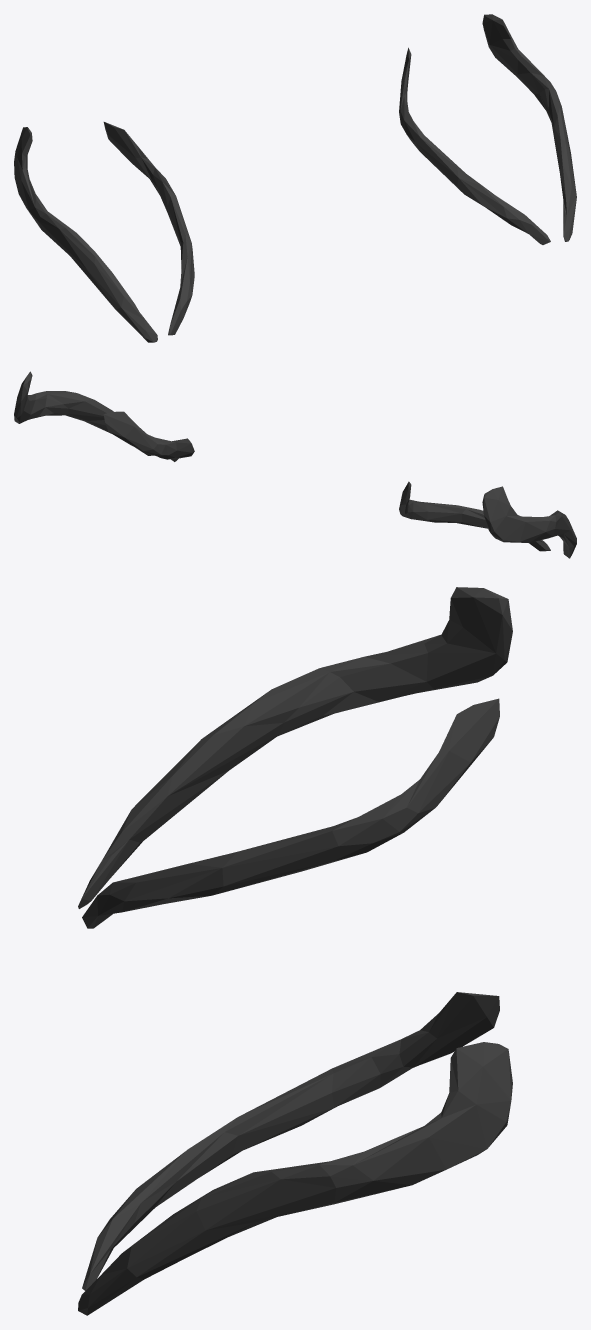
File: tend_extensor_br_FL.glb
The picture shows the model from 3 angles, top to bottom: view 1: azimuth 30°, elevation 25°; view 2: azimuth 150°, elevation 25°; view 3: azimuth 270°, elevation 25°; orthographic projection. The views are drawn at different scales.
Parts seen in each view (by area): view 1: tend_extensor_br_FL; view 2: tend_extensor_br_FL; view 3: tend_extensor_br_FL.
Boxes of the visible parts, left/top/right/bottom form: tend_extensor_br_FL: left=14, top=14, right=576, bottom=342; tend_extensor_br_FL: left=14, top=371, right=576, bottom=558; tend_extensor_br_FL: left=78, top=587, right=512, bottom=1315.
Bounding box in the file's own units: 0.00431 × 0.00118 × 0.00157.
1 material, 1 textured.
